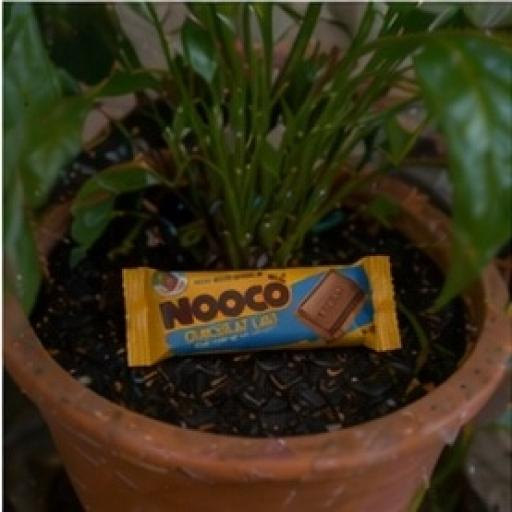biscuit-detection: (68, 190, 466, 403)
